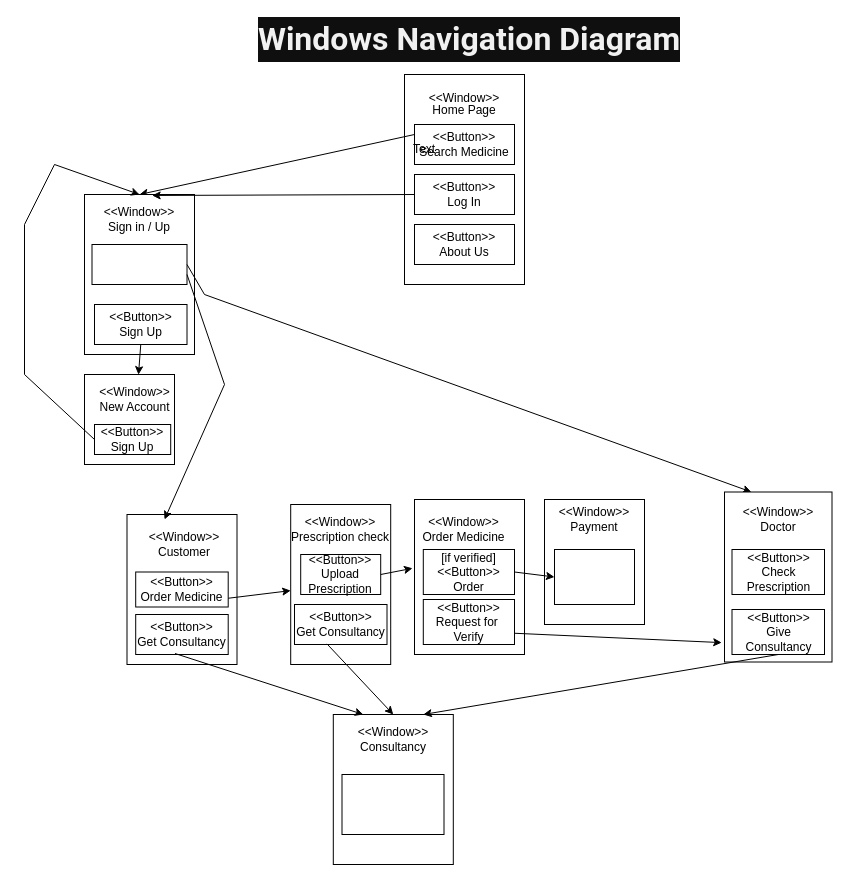
The diagram is 850 pixels wide and 882 high, and some of its shapes have lost their labels. The centre of each missing label's shape, as x and y in pixels:
"<<Button>> Payment" goes at [594,576].
"<<Button>> Sign in" goes at [139,264].
"Doctor Consultancy" goes at [392,804].
